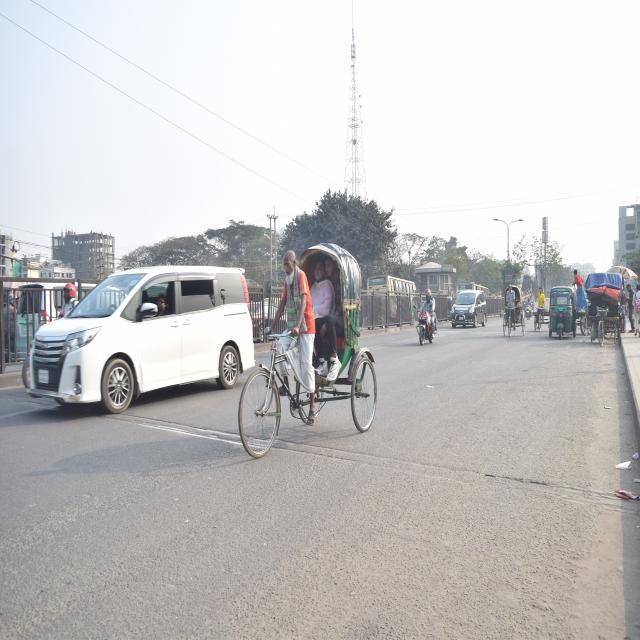car: (22, 255, 254, 432), (454, 284, 489, 326)
motorbike: (412, 297, 437, 347), (522, 295, 534, 322)
